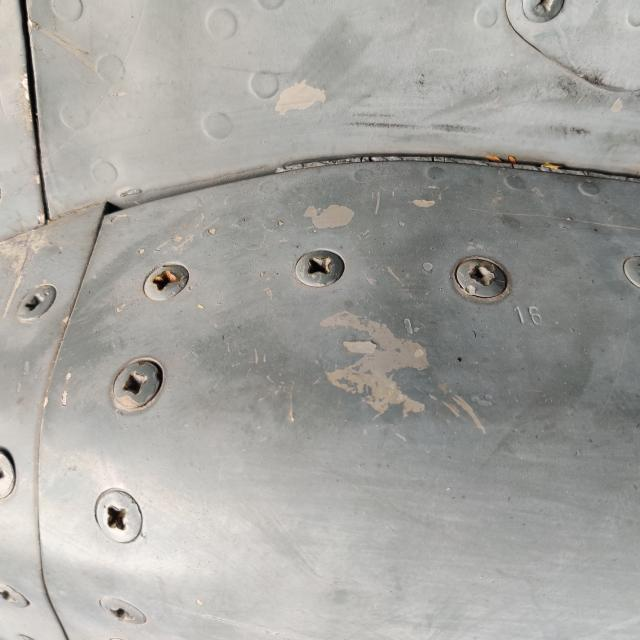paint-off: (305, 294, 442, 429)
